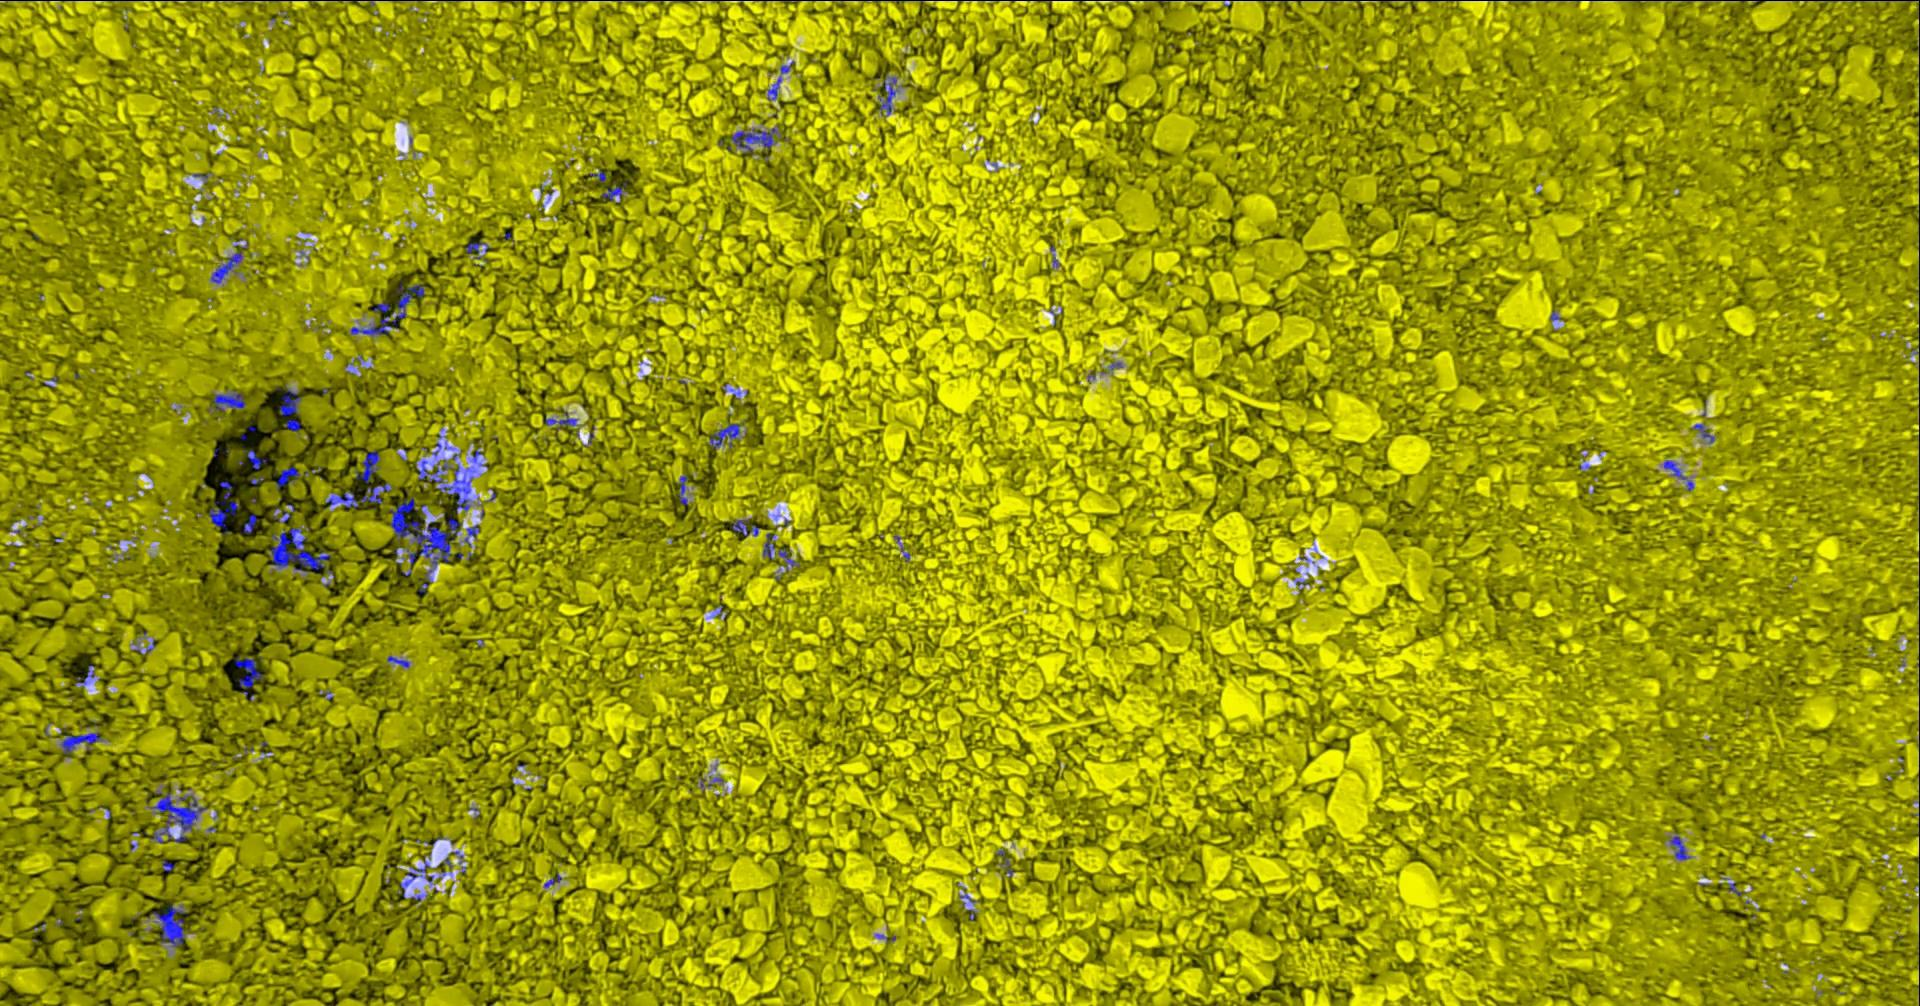ant: (350, 281, 423, 335), (324, 448, 391, 507), (417, 459, 472, 513), (149, 791, 207, 842), (208, 480, 239, 535), (210, 241, 248, 283), (152, 903, 189, 946), (762, 532, 799, 572), (397, 859, 433, 898), (234, 655, 262, 700), (731, 127, 776, 151), (60, 732, 102, 757), (279, 386, 301, 431), (709, 419, 739, 448), (212, 389, 245, 412), (877, 77, 897, 114), (543, 412, 577, 429), (276, 466, 298, 490), (1669, 835, 1690, 859), (996, 848, 1013, 876), (1691, 423, 1714, 443), (243, 448, 265, 469), (730, 520, 759, 535), (465, 239, 488, 258), (1663, 460, 1686, 479), (602, 183, 626, 201), (74, 664, 93, 686), (698, 777, 723, 791), (241, 513, 257, 533), (767, 75, 780, 99), (272, 507, 290, 522), (678, 475, 687, 504), (387, 655, 409, 667), (466, 525, 479, 539)
